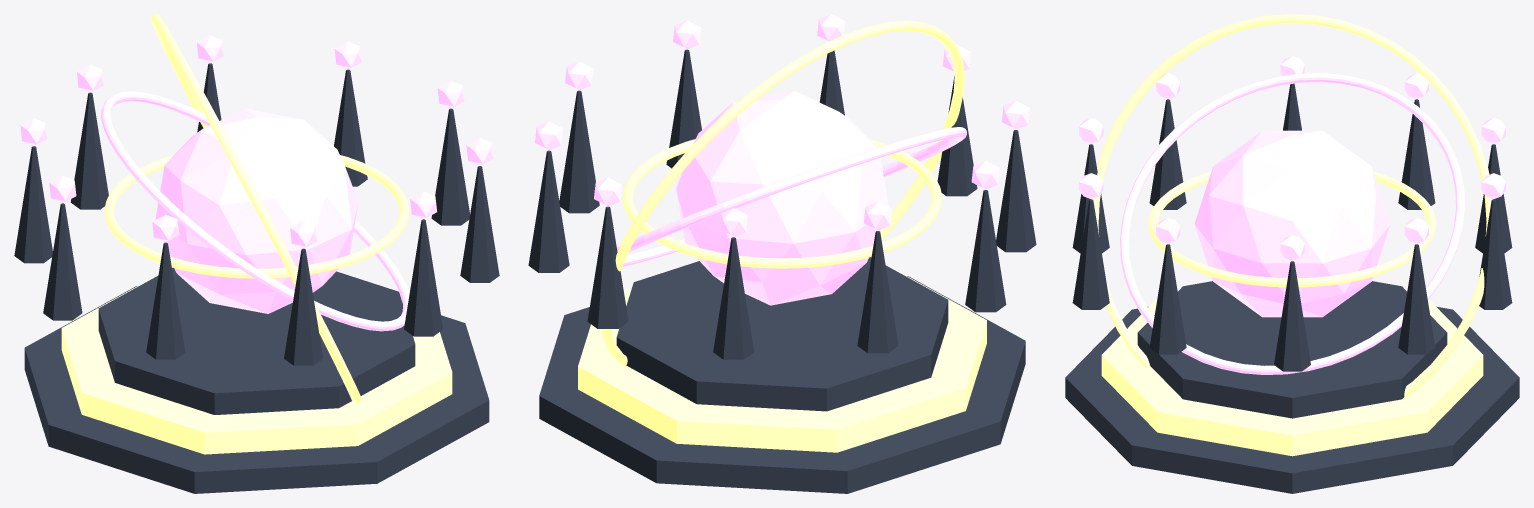
Rendered from gpu-blender-v10.glb.
3 renders of one model, left to right at view 1: azimuth 30°, elevation 25°; view 2: azimuth 150°, elevation 25°; view 3: azimuth 270°, elevation 25°, orthographic. The views are drawn at different scales.
Visible parts, largest first — view 1: Cylinder.002, SovereignCore_pwa-manifest-builder, Cylinder, Cylinder.001, Torus.001, Torus, Torus.002, Cone.004, Cone.005, Cone.008, Cone.006, Cone.007 (+15 smaller); view 2: Cylinder.002, SovereignCore_pwa-manifest-builder, Cylinder, Cylinder.001, Torus.002, Torus, Torus.001, Cone.004, Cone.005, Cone.006, Cone.003, Cone.001 (+14 smaller); view 3: SovereignCore_pwa-manifest-builder, Cylinder.002, Cylinder, Cylinder.001, Torus.001, Torus.002, Torus, Cone.001, Cone.009, Cone, Cone.008, Cone.002 (+14 smaller).
Boxes of the visible parts, x1,y1,x2,y2 form: Cylinder.002: [98, 267, 415, 414]; SovereignCore_pwa-manifest-builder: [155, 108, 358, 313]; Cylinder: [24, 286, 489, 493]; Cylinder.001: [61, 276, 452, 454]; Torus.001: [101, 91, 409, 331]; Torus: [104, 155, 409, 278]; Torus.002: [150, 14, 361, 403]; Cone.004: [14, 146, 52, 263]; Cone.005: [43, 203, 82, 320]; Cone.008: [404, 219, 443, 336]; Cone.006: [146, 242, 185, 359]; Cone.007: [284, 248, 323, 365]; Cylinder.002: [616, 257, 948, 411]; SovereignCore_pwa-manifest-builder: [676, 90, 888, 305]; Cylinder: [539, 276, 1025, 493]; Cylinder.001: [578, 266, 986, 452]; Torus.002: [601, 20, 964, 366]; Torus: [623, 139, 941, 268]; Torus.001: [617, 127, 966, 266]; Cone.004: [857, 231, 898, 353]; Cone.005: [965, 190, 1006, 312]; Cone.006: [996, 130, 1036, 252]; Cone.003: [713, 237, 754, 359]; Cone.001: [528, 150, 569, 272]; SovereignCore_pwa-manifest-builder: [1194, 130, 1390, 317]; Cylinder.002: [1137, 281, 1447, 418]; Cylinder: [1065, 306, 1519, 493]; Cylinder.001: [1101, 298, 1483, 456]; Torus.001: [1120, 73, 1464, 374]; Torus.002: [1092, 14, 1492, 398]; Torus: [1148, 171, 1436, 287]; Cone.001: [1398, 244, 1435, 354]; Cone.009: [1149, 244, 1186, 354]; Cone: [1274, 261, 1310, 371]; Cone.008: [1072, 199, 1109, 309]; Cone.002: [1479, 199, 1512, 309].
Size of the model in its own units: 4.41 by 3.72 by 4.4.
